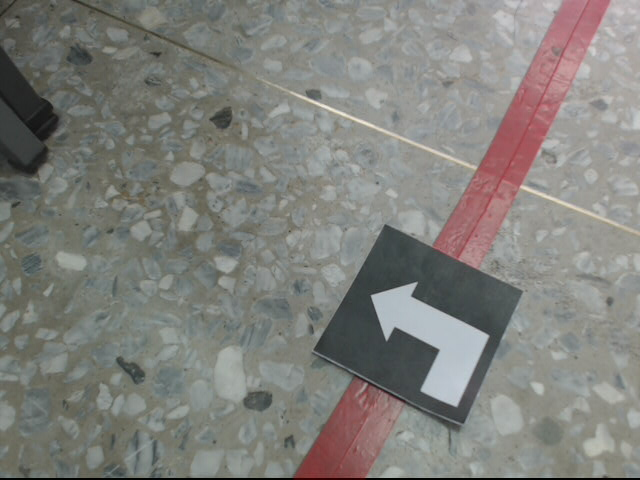left: (311, 222, 524, 427)
